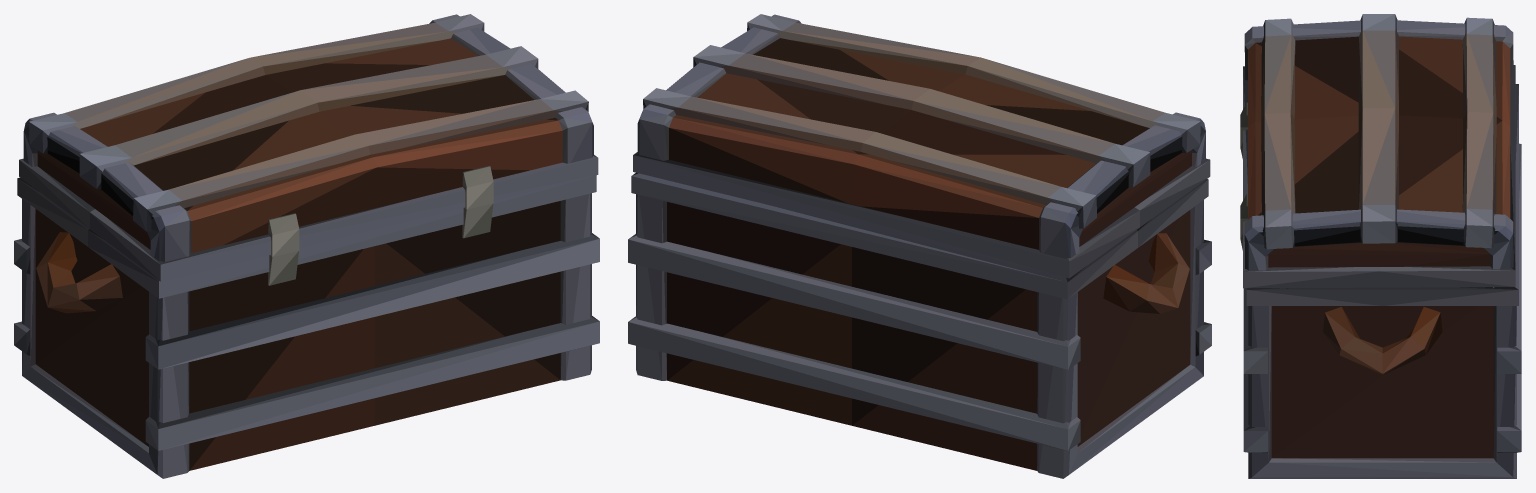
File: prop_container_chest_2_anim.fbx
The picture shows the model from 3 angles, left to right: view 1: azimuth 30°, elevation 25°; view 2: azimuth 150°, elevation 25°; view 3: azimuth 270°, elevation 25°; orthographic projection. The views are drawn at different scales.
Parts seen in each view (by area): view 1: chest_bottom_2, chest_top_2; view 2: chest_bottom_2, chest_top_2; view 3: chest_top_2, chest_bottom_2.
Part boxes in pixels (left/top/right/bottom): chest_bottom_2: left=14, top=175, right=599, bottom=478; chest_top_2: left=19, top=14, right=598, bottom=285; chest_bottom_2: left=628, top=172, right=1211, bottom=478; chest_top_2: left=633, top=14, right=1210, bottom=278; chest_top_2: left=1240, top=14, right=1515, bottom=288; chest_bottom_2: left=1243, top=84, right=1521, bottom=478.
Size of the model in its own units: 2.48 by 1.28 by 1.21.
